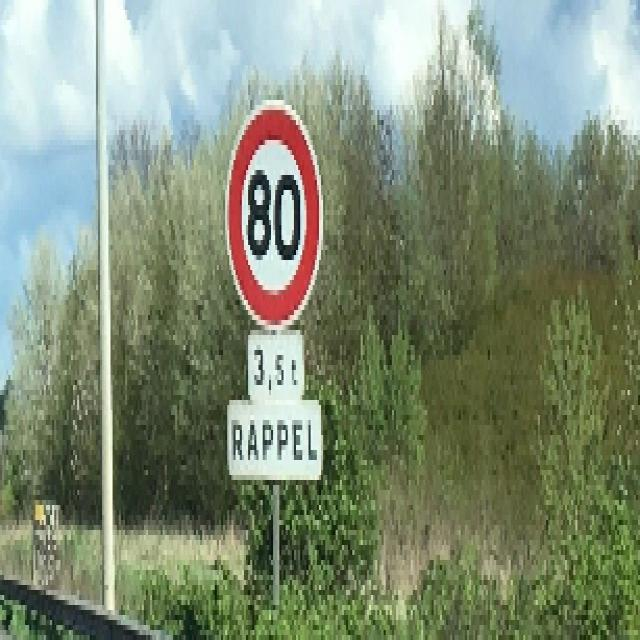speed_80: (227, 98, 326, 332)
